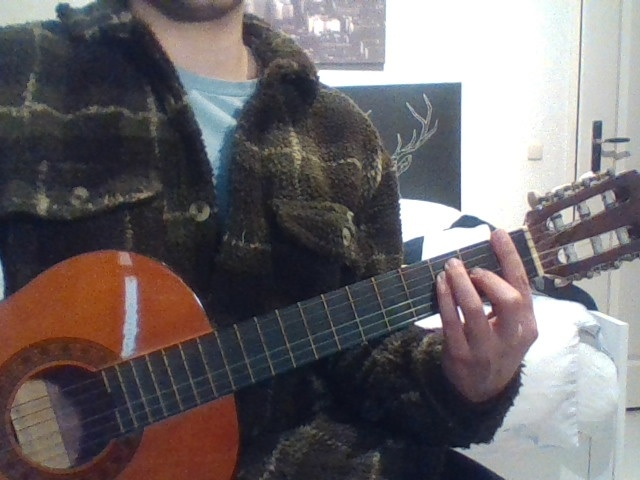F: (415, 214, 568, 416)
